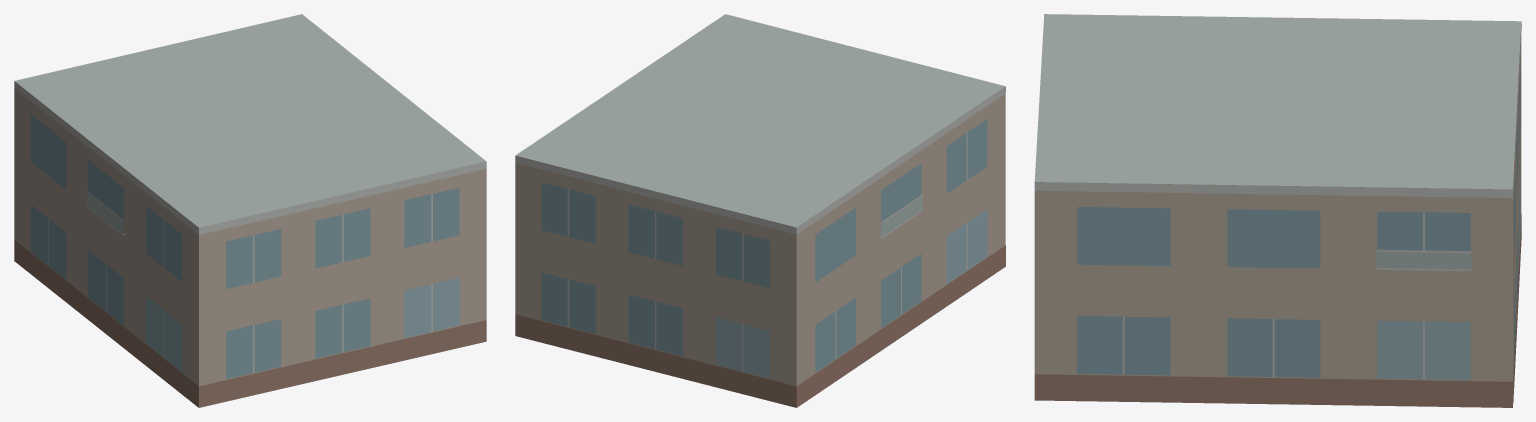
Rendered from survey-upis-32669759.glb.
3 renders of one model, left to right at view 1: azimuth 30°, elevation 25°; view 2: azimuth 150°, elevation 25°; view 3: azimuth 270°, elevation 25°, orthographic. The views are drawn at different scales.
Parts seen in each view (by area): view 1: survey-upis-32669759.tmp; view 2: survey-upis-32669759.tmp; view 3: survey-upis-32669759.tmp.
Part boxes in pixels (x1,y1,x2,y2): survey-upis-32669759.tmp: (14, 14, 486, 407); survey-upis-32669759.tmp: (515, 14, 1005, 407); survey-upis-32669759.tmp: (1034, 14, 1521, 407).
Bounding box in the file's own units: 10.52 × 6.1 × 12.33.
